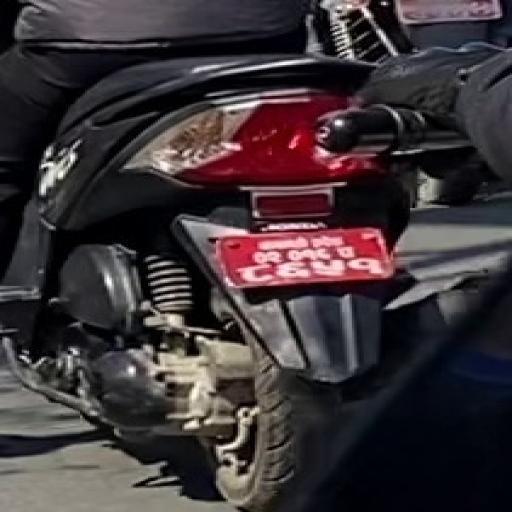license_plate: (210, 224, 400, 291)
